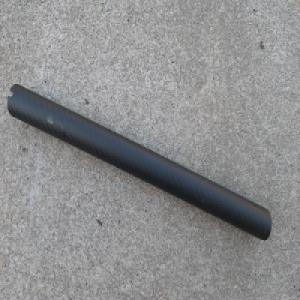LuggagePart: (5, 80, 273, 242)
